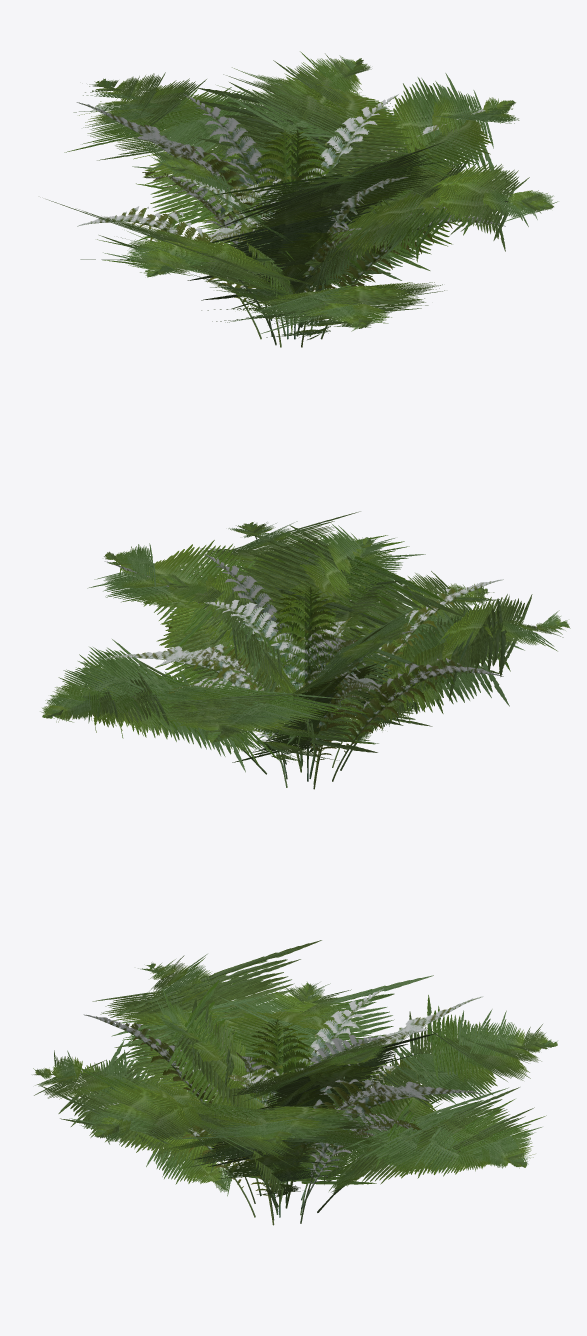
The model's file is fern_02.glb.
3 renders of one model, top to bottom at view 1: azimuth 30°, elevation 25°; view 2: azimuth 150°, elevation 25°; view 3: azimuth 270°, elevation 25°, orthographic. The views are drawn at different scales.
Parts seen in each view (by area): view 1: AE_15TH_FERN_02_LOD1, AE_15TH_FERN_02_LOD2, AE_15TH_FERN_02_LOD3; view 2: AE_15TH_FERN_02_LOD1, AE_15TH_FERN_02_LOD2, AE_15TH_FERN_02_LOD3; view 3: AE_15TH_FERN_02_LOD1, AE_15TH_FERN_02_LOD2, AE_15TH_FERN_02_LOD3.
Part boxes in pixels (x1=…): AE_15TH_FERN_02_LOD1: x1=73, y1=53, x2=553, y2=345; AE_15TH_FERN_02_LOD2: x1=46, y1=51, x2=558, y2=337; AE_15TH_FERN_02_LOD3: x1=76, y1=93, x2=505, y2=347; AE_15TH_FERN_02_LOD1: x1=43, y1=521, x2=569, y2=774; AE_15TH_FERN_02_LOD2: x1=40, y1=511, x2=570, y2=772; AE_15TH_FERN_02_LOD3: x1=104, y1=553, x2=503, y2=789; AE_15TH_FERN_02_LOD1: x1=33, y1=954, x2=557, y2=1212; AE_15TH_FERN_02_LOD2: x1=34, y1=940, x2=557, y2=1208; AE_15TH_FERN_02_LOD3: x1=83, y1=988, x2=483, y2=1225.
Bounding box in the file's own units: 0.5055 × 0.2425 × 0.5529.
Materials: 5 (5 with a texture image).
